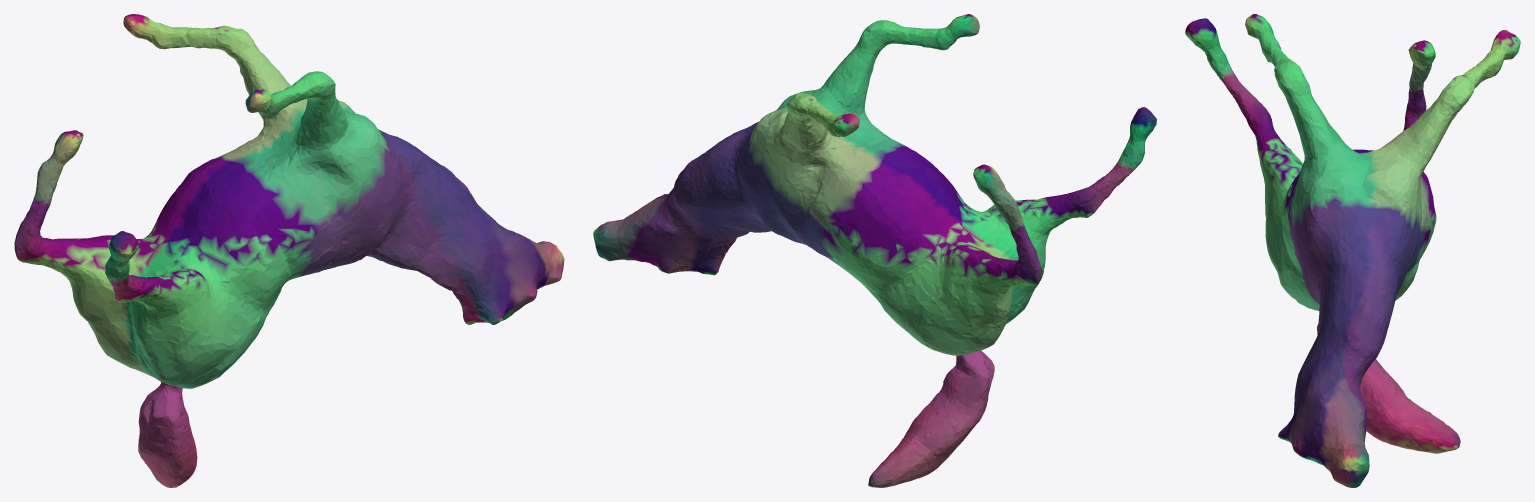
The model's file is horse-1.off.obj.
3 renders of one model, left to right at view 1: azimuth 30°, elevation 25°; view 2: azimuth 150°, elevation 25°; view 3: azimuth 270°, elevation 25°, orthographic. The views are drawn at different scales.
Bounding box in the file's own units: 1.53 × 1.23 × 0.8522.
